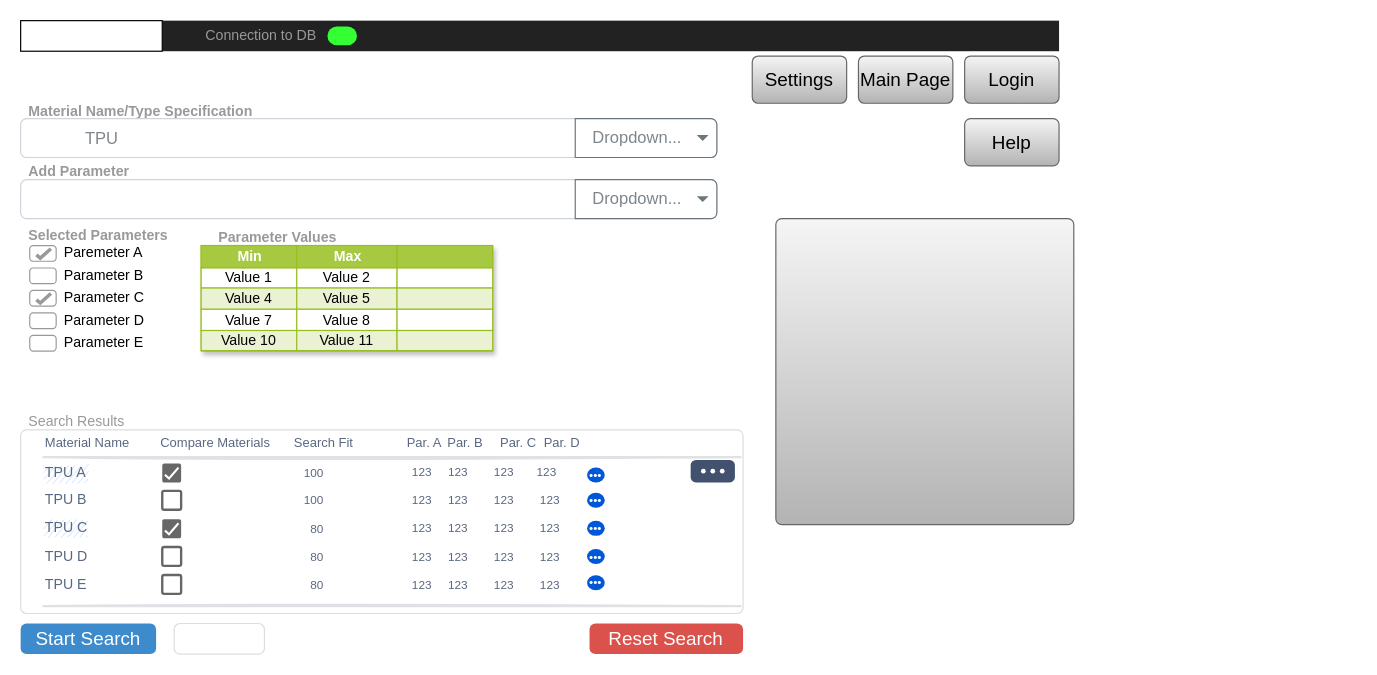
Image size: 1377x675. Some labels were removed from this diagram. Here are the shapes that lost their labels. From the top down, the centre of each, then its label:
At (x=90, y=35): "Guest Search".
At (x=924, y=371): "Quick Guide ... ...".
At (x=218, y=638): "Cancel".
